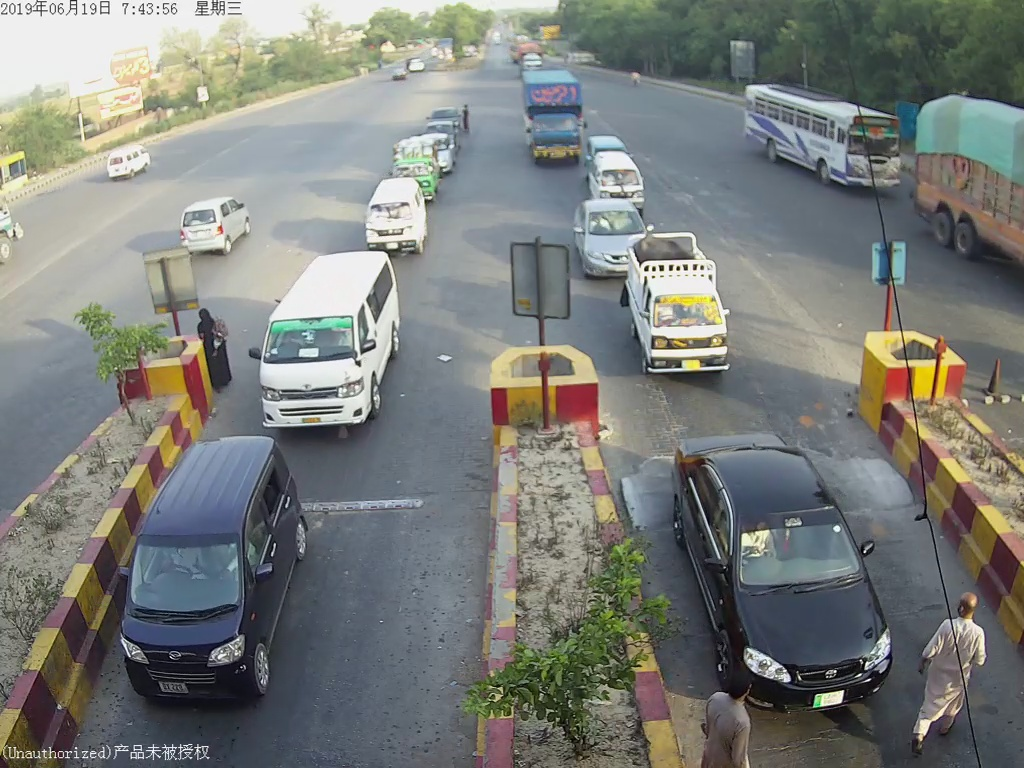Cat-1: (128, 434, 324, 708), (677, 444, 890, 692), (631, 247, 743, 373), (370, 190, 428, 249)
Cat-2: (256, 259, 412, 431)
